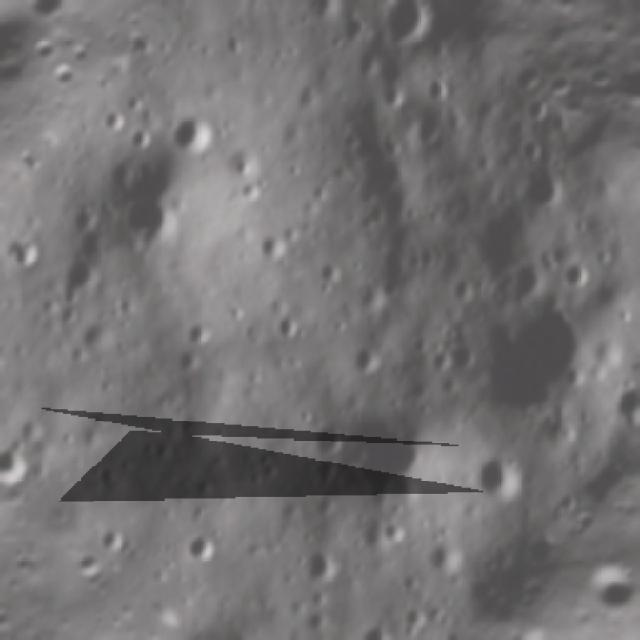crater: (460, 284, 612, 438), (310, 386, 453, 529), (68, 130, 212, 272), (463, 441, 537, 517), (358, 0, 445, 63), (46, 250, 114, 318), (158, 99, 225, 166), (512, 161, 576, 225), (426, 334, 488, 398), (0, 218, 62, 280), (294, 409, 354, 469), (595, 367, 640, 438), (173, 523, 230, 579), (266, 300, 322, 357), (288, 542, 344, 598), (418, 535, 473, 591), (341, 333, 396, 389), (247, 219, 302, 275), (550, 251, 602, 303), (402, 109, 453, 160), (409, 66, 458, 116), (505, 125, 553, 173), (91, 518, 138, 564), (160, 342, 205, 386), (171, 306, 215, 351), (348, 606, 402, 640), (515, 92, 557, 133), (296, 631, 418, 640), (0, 367, 8, 427)
